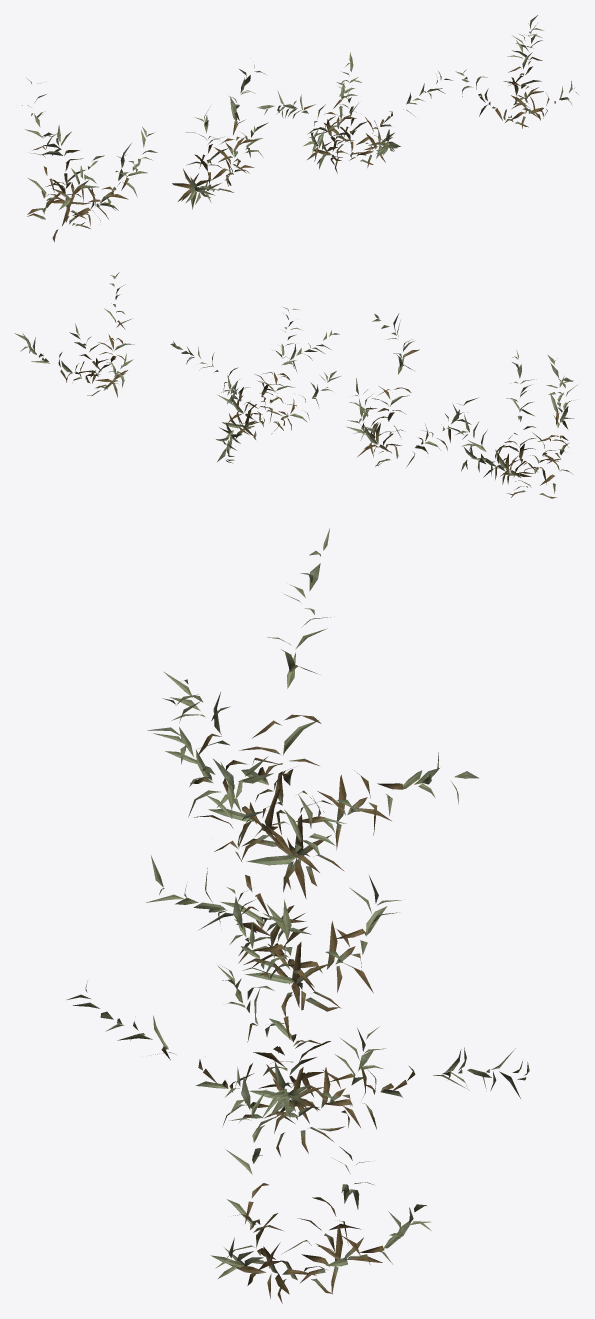
File: shrub_a.glb
The picture shows the model from 3 angles, top to bottom: view 1: azimuth 30°, elevation 25°; view 2: azimuth 150°, elevation 25°; view 3: azimuth 270°, elevation 25°; orthographic projection. The views are drawn at different scales.
Parts seen in each view (by area): view 1: shrub_02_c, shrub_02_a, shrub_02_b, shrub_02_d; view 2: shrub_02_a, shrub_02_c, shrub_02_b, shrub_02_d; view 3: shrub_02_a, shrub_02_c, shrub_02_b, shrub_02_d.
Part boxes in pixels (left/top/right/bottom): shrub_02_c: left=257, top=52, right=452, bottom=173; shrub_02_a: left=22, top=79, right=157, bottom=242; shrub_02_b: left=172, top=65, right=268, bottom=209; shrub_02_d: left=455, top=15, right=578, bottom=128; shrub_02_a: left=455, top=351, right=576, bottom=498; shrub_02_c: left=170, top=307, right=340, bottom=463; shrub_02_b: left=346, top=313, right=478, bottom=467; shrub_02_d: left=15, top=272, right=134, bottom=397; shrub_02_a: left=147, top=528, right=478, bottom=898; shrub_02_c: left=67, top=887, right=529, bottom=1156; shrub_02_b: left=146, top=756, right=404, bottom=1016; shrub_02_d: left=210, top=1067, right=431, bottom=1303.
Bounding box in the file's own units: 6.05 × 1.7 × 2.28.
Materials: 1 (1 with a texture image).
